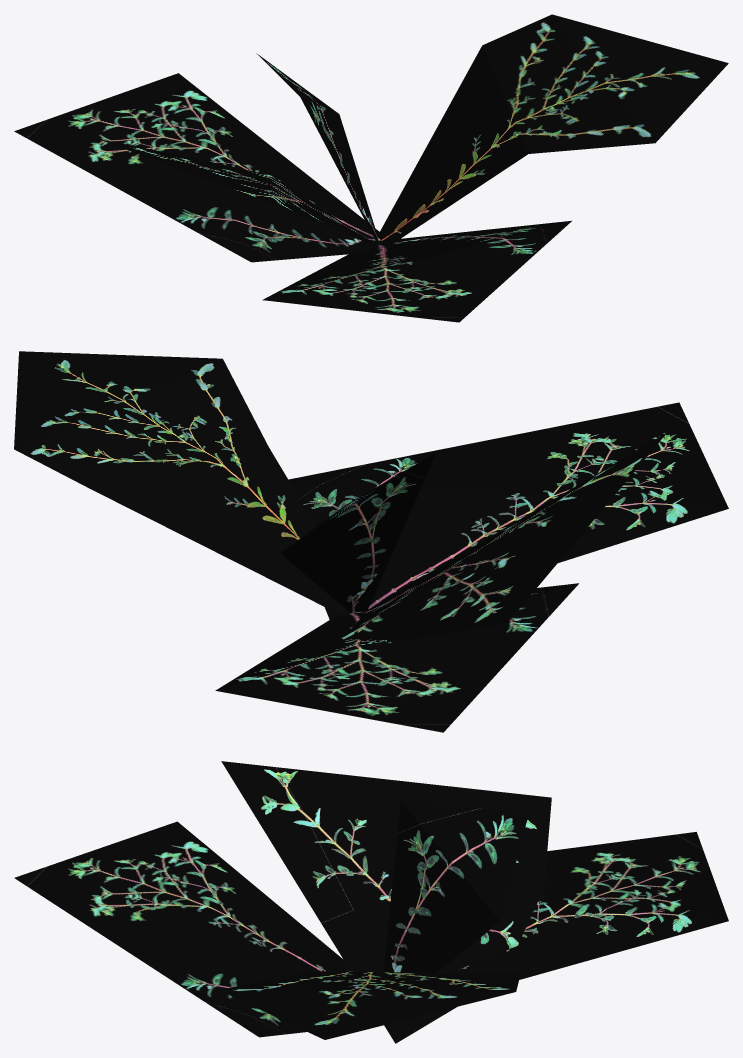
The model's file is m_grass_35.fbx.
The picture shows the model from 3 angles, top to bottom: view 1: azimuth 30°, elevation 25°; view 2: azimuth 150°, elevation 25°; view 3: azimuth 270°, elevation 25°; orthographic projection. The views are drawn at different scales.
Parts seen in each view (by area): view 1: mesh_grass_35_LOD0; view 2: mesh_grass_35_LOD0; view 3: mesh_grass_35_LOD0.
Boxes of the visible parts, left/top/right/bottom form: mesh_grass_35_LOD0: left=14, top=14, right=728, bottom=322; mesh_grass_35_LOD0: left=14, top=351, right=728, bottom=732; mesh_grass_35_LOD0: left=14, top=761, right=728, bottom=1043.
Bounding box in the file's own units: 108 × 34.95 × 118.
